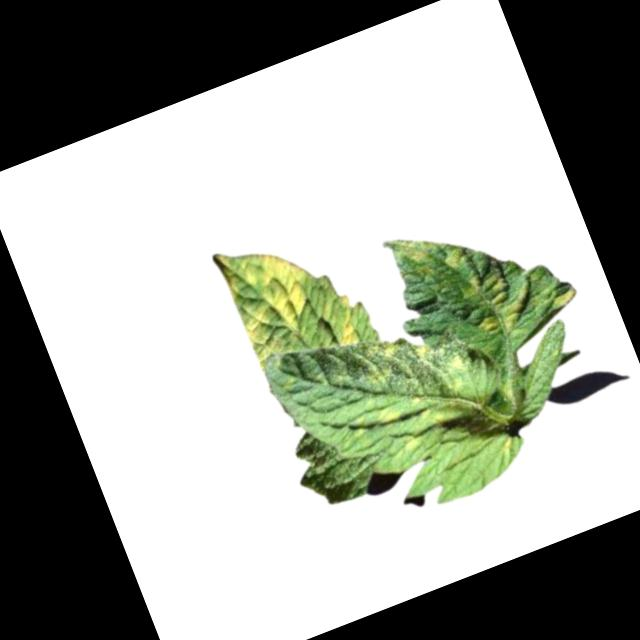Leaf_Mold: (209, 222, 335, 369), (458, 255, 540, 339), (381, 223, 448, 288), (352, 331, 412, 388), (325, 287, 367, 345), (394, 422, 431, 457), (542, 278, 581, 310), (443, 241, 472, 272), (376, 401, 405, 428)
